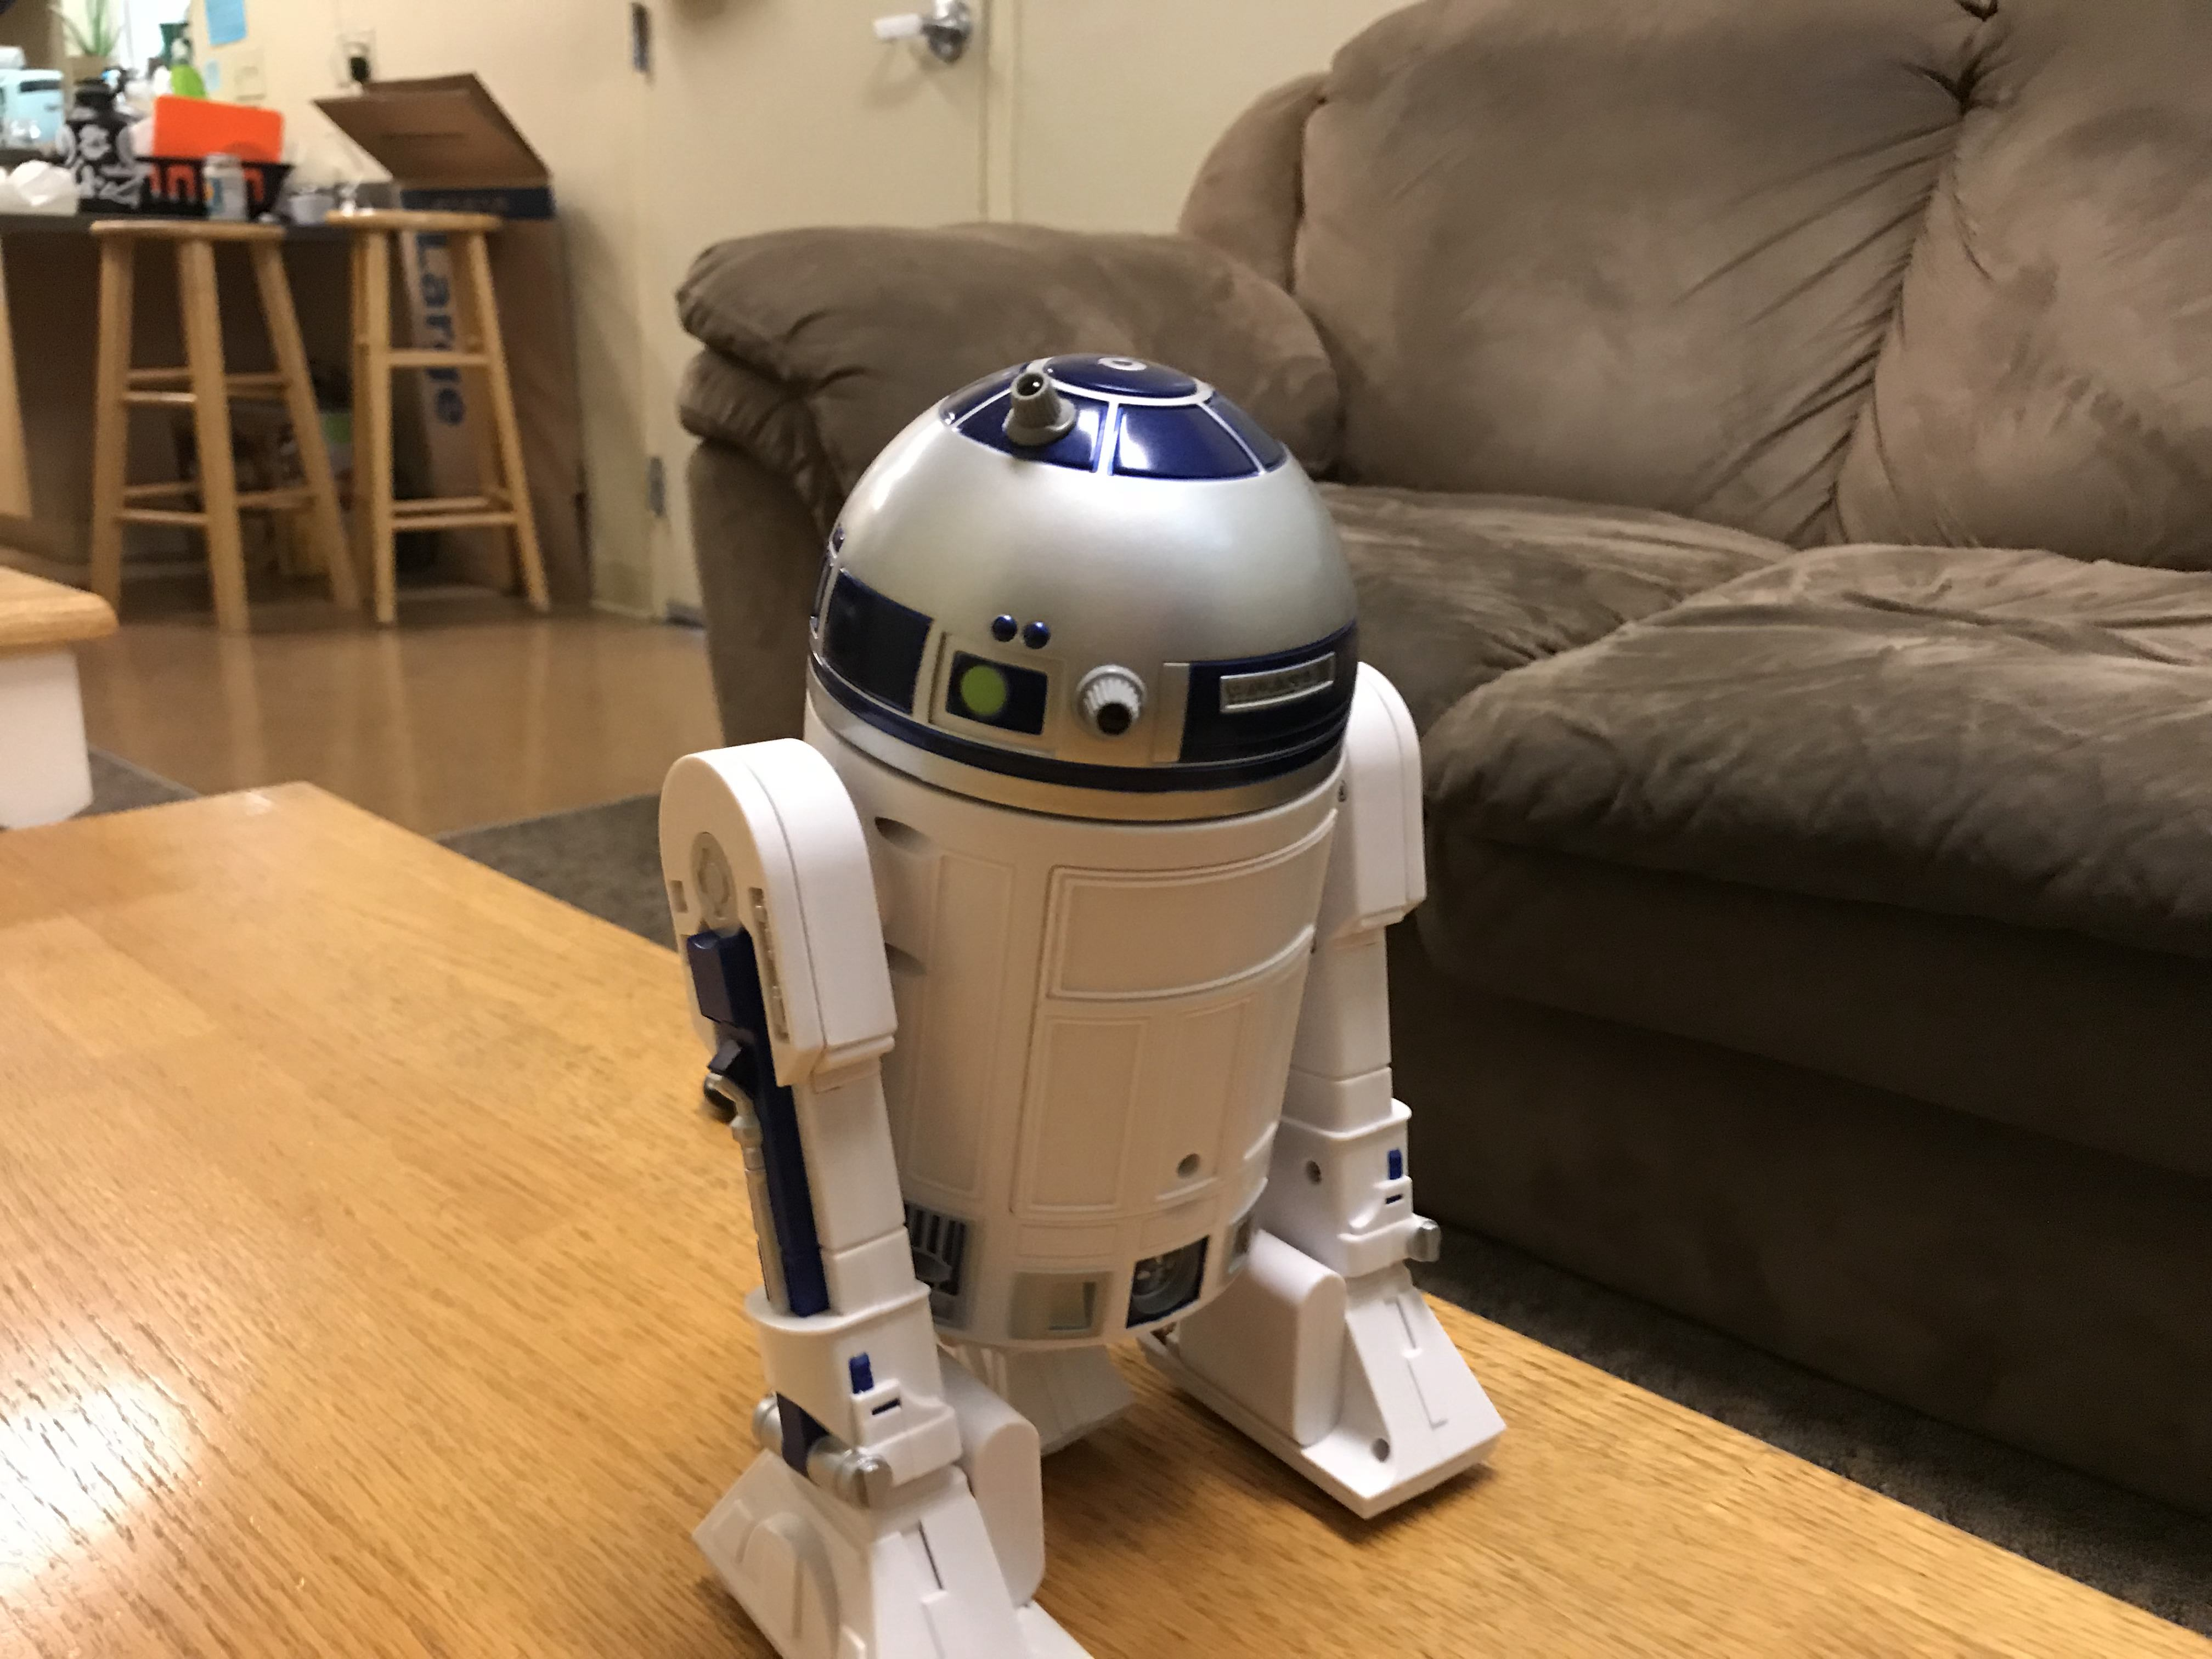r2d2: (658, 359, 1507, 1659)
